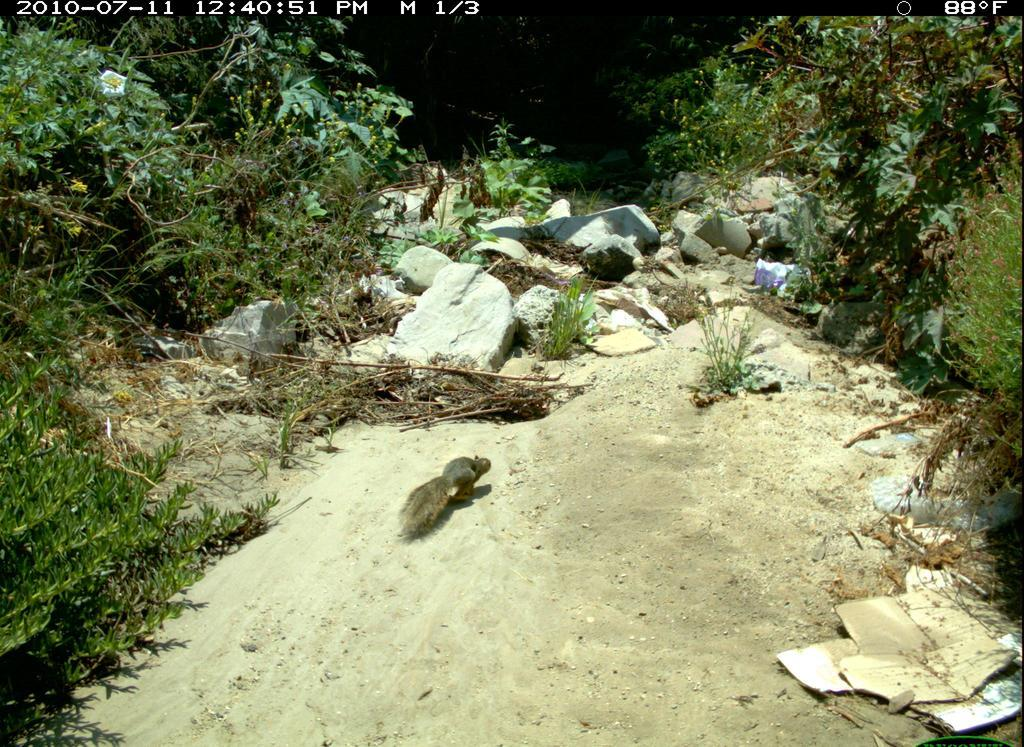squirrel: (392, 450, 498, 543)
